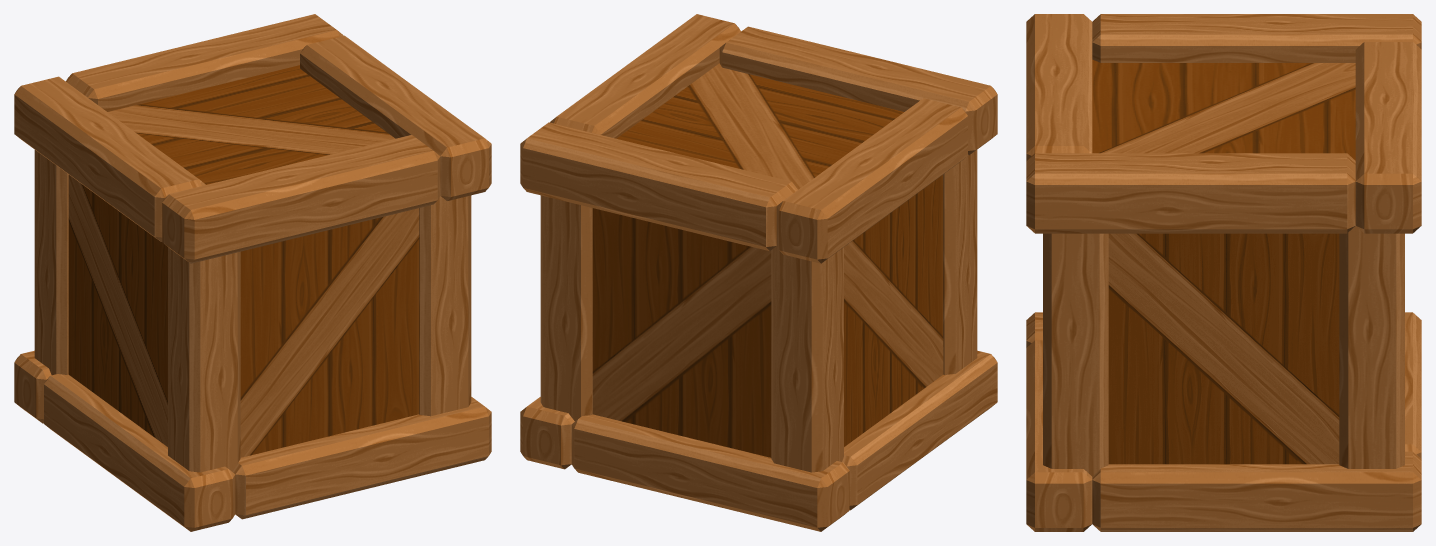
Rendered from Wooden Crate.glb.
3 renders of one model, left to right at view 1: azimuth 30°, elevation 25°; view 2: azimuth 150°, elevation 25°; view 3: azimuth 270°, elevation 25°, orthographic. The views are drawn at different scales.
Visible parts, largest first — view 1: main bars, inner box; view 2: main bars, inner box; view 3: main bars, inner box.
Boxes of the visible parts, x1,y1,x2,y2 form: main bars: (14,14,491,531); inner box: (68,65,419,457); main bars: (520,14,997,531); inner box: (592,63,943,457); main bars: (1026,14,1421,531); inner box: (1092,59,1355,464).
Bounding box in the file's own units: 2.4 × 2.4 × 2.4.
1 material, 1 textured.
